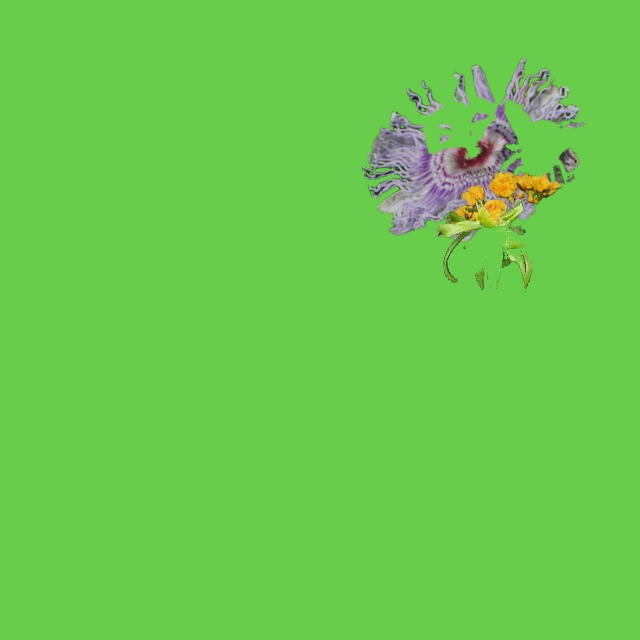passion flower: (362, 58, 584, 241)
rose: (448, 172, 561, 232)
ylang-ylang: (438, 199, 531, 291)
